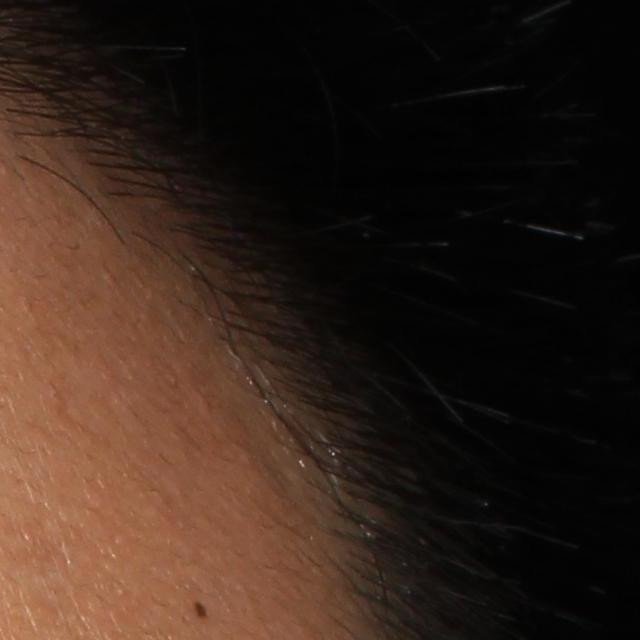nevus: (186, 595, 211, 627)
